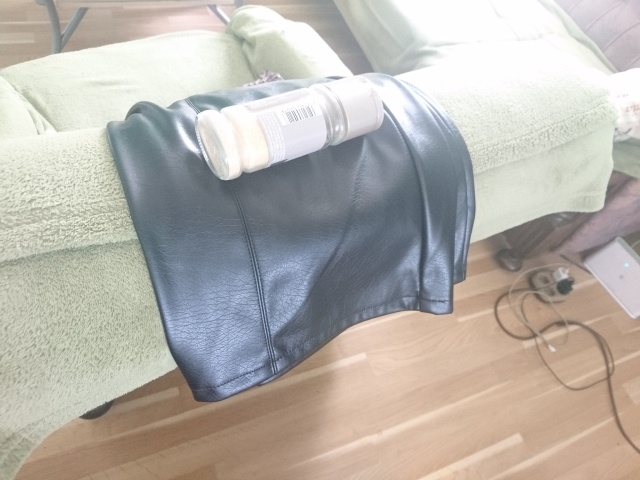Kotanyi Garlic Granules 70g: (191, 72, 387, 183)
